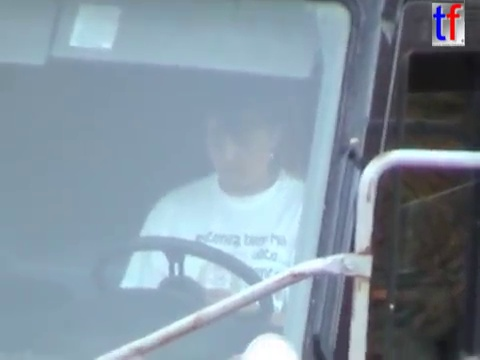truck: (1, 1, 480, 360)
worker: (111, 62, 349, 360)
